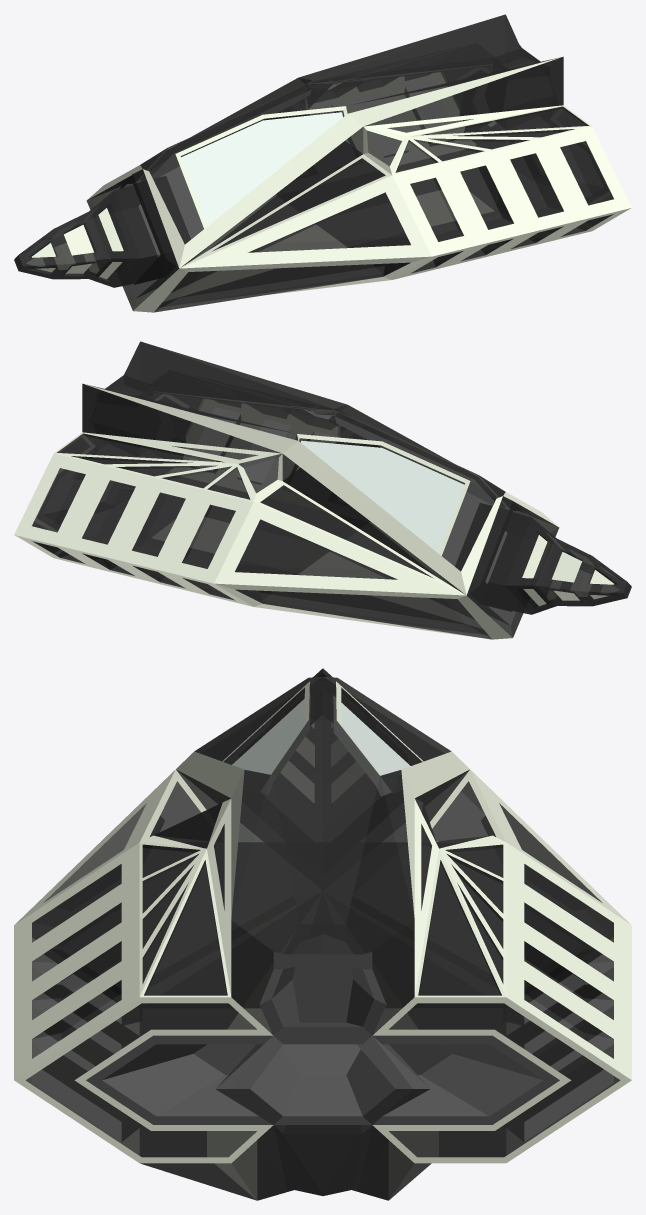
File: Boid.fbx
3 views of the same model, one above another, from view 1: azimuth 30°, elevation 25°; view 2: azimuth 150°, elevation 25°; view 3: azimuth 270°, elevation 25° (orthographic). The views are drawn at different scales.
Parts seen in each view (by area): view 1: Cube; view 2: Cube; view 3: Cube.
Part boxes in pixels (x1=…): Cube: x1=14, y1=14, x2=631, y2=312; Cube: x1=14, y1=341, x2=631, y2=639; Cube: x1=14, y1=668, x2=631, y2=1200.
Bounding box in the file's own units: 527 × 178 × 337.
